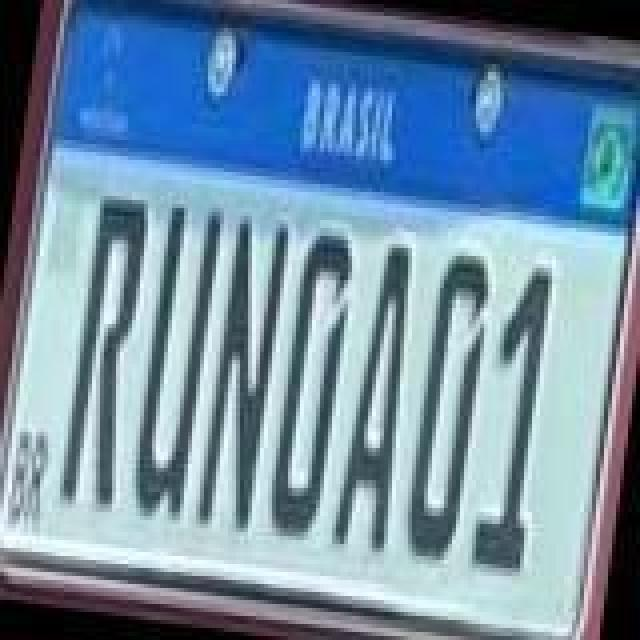1: (464, 254, 568, 578)
A: (326, 240, 426, 560)
D: (396, 244, 500, 572), (262, 226, 362, 542)
N: (192, 210, 296, 542)
R: (52, 192, 156, 512)
U: (124, 196, 228, 532)
